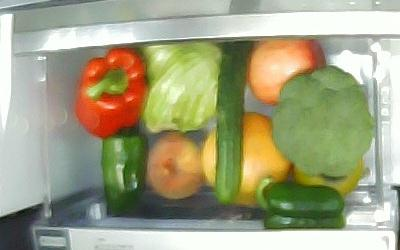apple: (248, 39, 324, 105)
broccoli: (270, 66, 374, 176)
cucumber: (215, 42, 253, 205)
grapefruit: (201, 113, 292, 207)
lettuce: (139, 41, 222, 134)
paprika: (76, 49, 147, 138), (257, 178, 344, 229), (101, 127, 147, 216)
peach: (147, 133, 204, 198)
persimmon: (293, 154, 363, 196)
